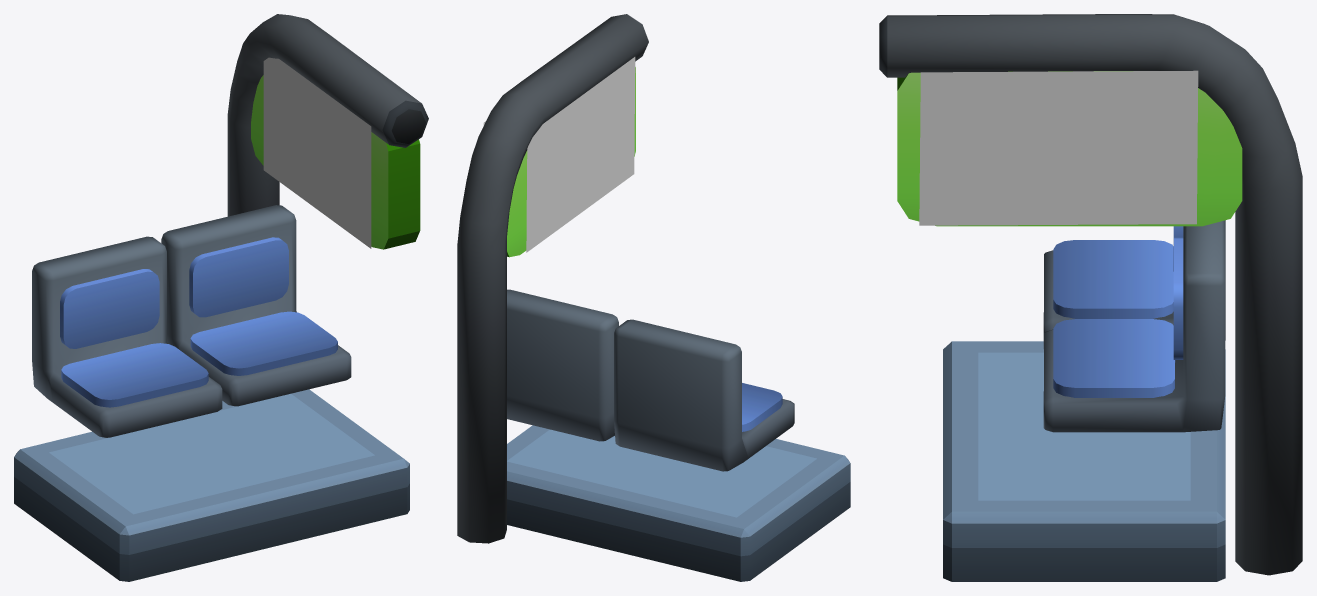
File: Train-Station.fbx
3 renders of one model, left to right at view 1: azimuth 30°, elevation 25°; view 2: azimuth 150°, elevation 25°; view 3: azimuth 270°, elevation 25°, orthographic. The views are drawn at different scales.
Visible parts, largest first — view 1: train-station.002; view 2: train-station.002; view 3: train-station.002.
Boxes of the visible parts, left/top/right/bottom form: train-station.002: left=14, top=14, right=428, bottom=581; train-station.002: left=457, top=14, right=850, bottom=581; train-station.002: left=879, top=14, right=1302, bottom=581.
Size of the model in its own units: 200 by 288 by 201.
